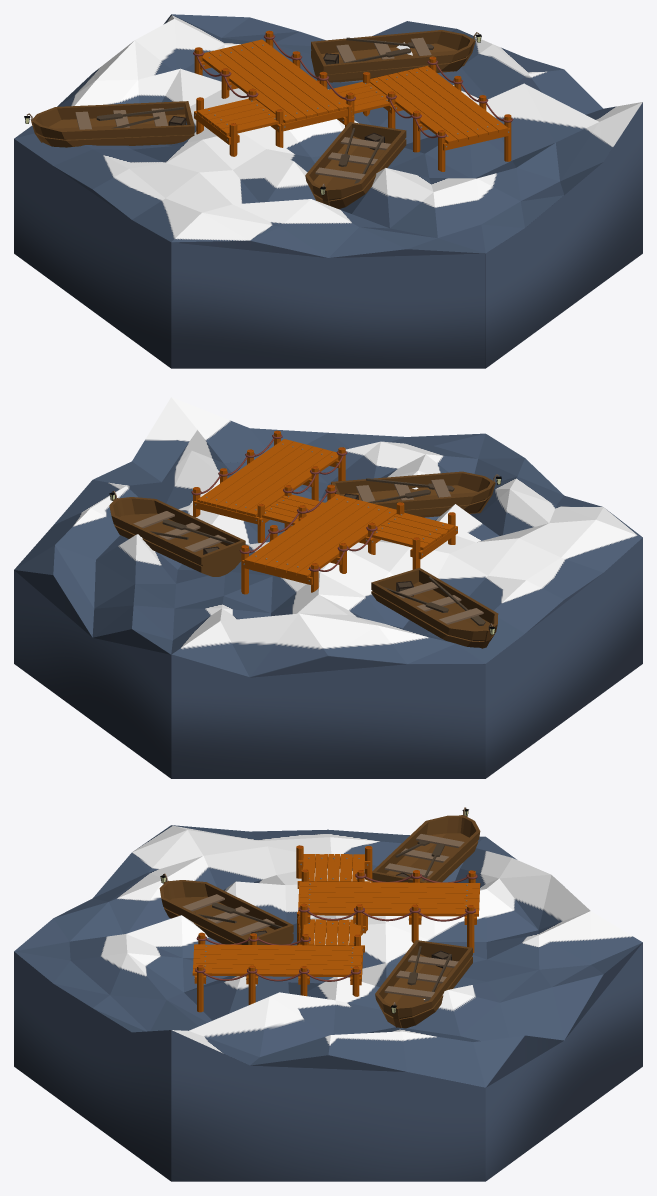
File: harbor.glb
3 renders of one model, top to bottom at view 1: azimuth 30°, elevation 25°; view 2: azimuth 150°, elevation 25°; view 3: azimuth 270°, elevation 25°, orthographic.
Parts seen in each view (by area): view 1: Cylinder, Cylinder.048_Material.001_0.001, Cylinder.048_Material.001_0.002, Boat_Barca_0.002, Boat_Barca_0, Boat_Barca_0.001, Bancos_Asientos_0.001, Bancos, Bancos_Asientos_0.002, Cylinder.048_Material.002_0.001, Remos, Cylinder.048_Material.002_0.002; view 2: Cylinder, Cylinder.048_Material.001_0.001, Cylinder.048_Material.001_0.002, Boat_Barca_0, Boat_Barca_0.002, Boat_Barca_0.001, Bancos_Asientos_0.002, Bancos, Bancos_Asientos_0.001, Cylinder.048_Material.002_0.001, Remos_remos_0.002, Remos_remos_0.001 (+1 smaller); view 3: Cylinder, Cylinder.048_Material.001_0.001, Cylinder.048_Material.001_0.002, Boat_Barca_0.001, Boat_Barca_0, Boat_Barca_0.002, Bancos, Bancos_Asientos_0.002, Cylinder.048_Material.002_0.001, Bancos_Asientos_0.001, Cylinder.048_Material.002_0.002.
Part boxes in pixels (box(x1,y1,x2,y2)): Cylinder: box(14, 14, 642, 368); Cylinder.048_Material.001_0.001: box(194, 30, 354, 156); Cylinder.048_Material.001_0.002: box(317, 56, 511, 171); Boat_Barca_0.002: box(30, 101, 194, 147); Boat_Barca_0: box(311, 30, 475, 82); Boat_Barca_0.001: box(305, 122, 406, 208); Bancos_Asientos_0.001: box(315, 137, 390, 180); Bancos: box(336, 37, 431, 62); Bancos_Asientos_0.002: box(75, 108, 167, 129); Cylinder.048_Material.002_0.001: box(193, 34, 355, 101); Remos: box(341, 37, 433, 63); Cylinder.048_Material.002_0.002: box(386, 60, 513, 138); Cylinder: box(14, 397, 642, 778); Cylinder.048_Material.001_0.001: box(241, 484, 457, 594); Cylinder.048_Material.001_0.002: box(193, 430, 345, 542); Boat_Barca_0: box(109, 497, 245, 576); Boat_Barca_0.002: box(371, 567, 498, 648); Boat_Barca_0.001: box(331, 471, 495, 517); Bancos_Asientos_0.002: box(396, 582, 483, 624); Bancos: box(133, 511, 226, 552); Bancos_Asientos_0.001: box(356, 479, 450, 501); Cylinder.048_Material.002_0.001: box(239, 488, 377, 571); Remos_remos_0.002: box(383, 576, 485, 625); Remos_remos_0.001: box(366, 478, 454, 502); Cylinder: box(14, 825, 642, 1181); Cylinder.048_Material.001_0.001: box(296, 845, 480, 952); Cylinder.048_Material.001_0.002: box(192, 911, 367, 1012); Boat_Barca_0.001: box(159, 880, 293, 944); Boat_Barca_0: box(375, 940, 472, 1028); Boat_Barca_0.002: box(372, 815, 480, 882); Bancos: box(384, 955, 458, 998); Bancos_Asientos_0.002: box(384, 834, 464, 877); Cylinder.048_Material.002_0.001: box(298, 873, 477, 921); Bancos_Asientos_0.001: box(182, 894, 274, 935); Cylinder.048_Material.002_0.002: box(195, 936, 360, 981).
Bounding box in the file's own units: 1.73 × 0.5834 × 2.
28 materials, 2 textured.
